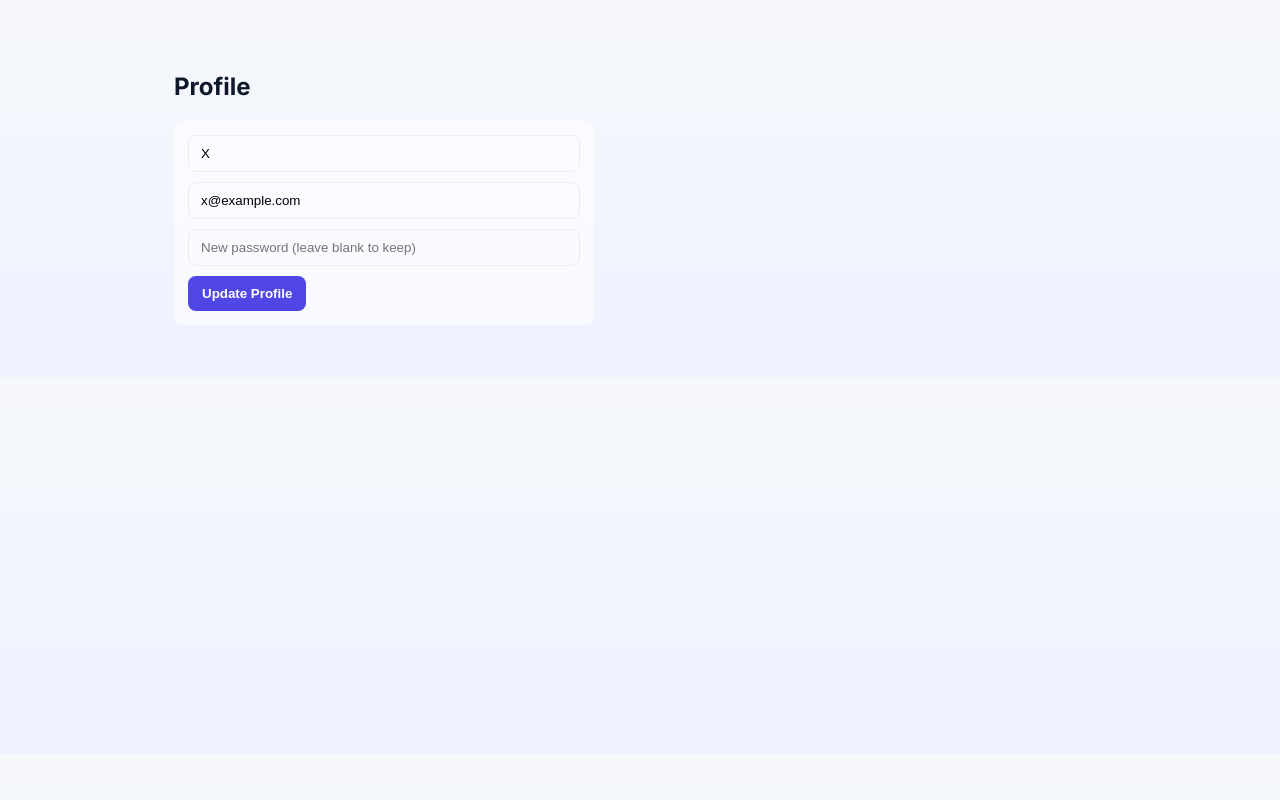
Test: renders profile and updates
Step 1. Replace the text in the 1st field with placeholder "Name" with "New" → point(384, 153), box [188,135,580,172]
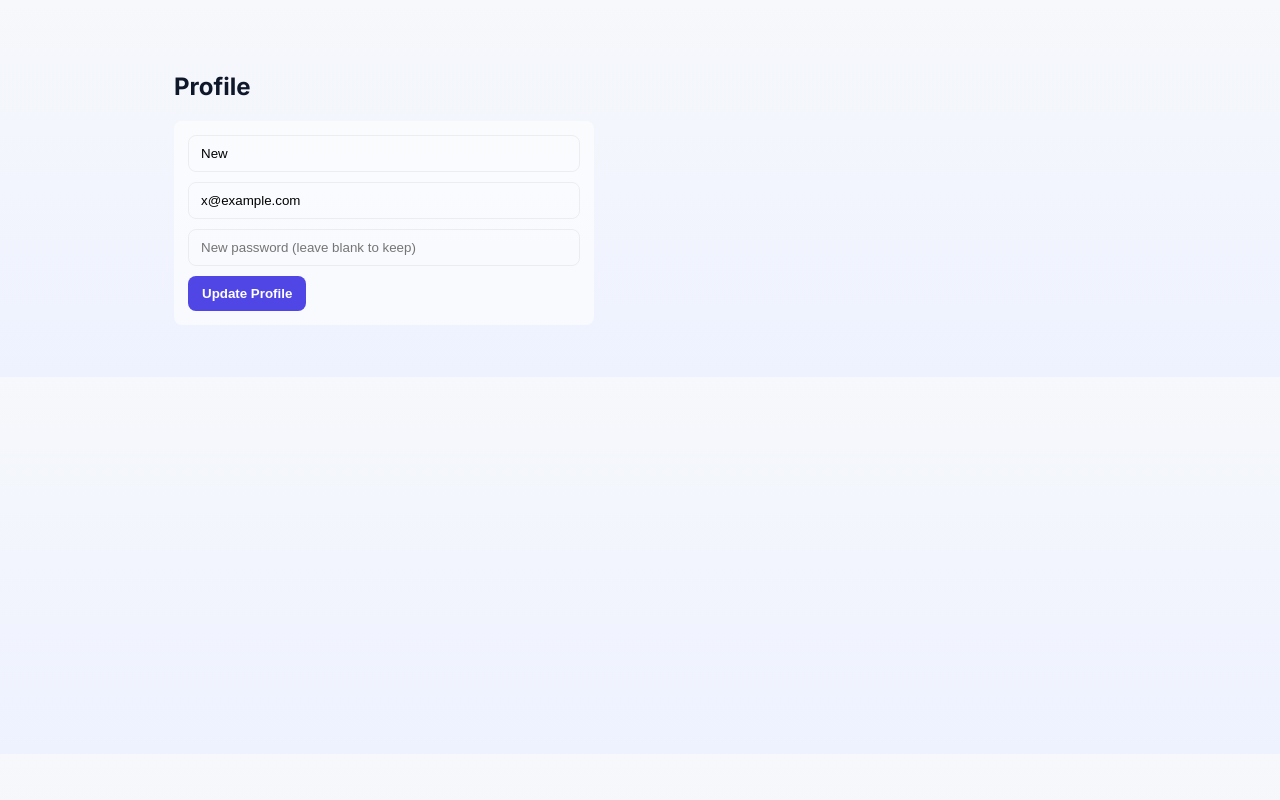
Step 2. Replace the text in the 2nd field with placeholder "Email" with "new@example.com" → point(384, 200), box [188,182,580,219]
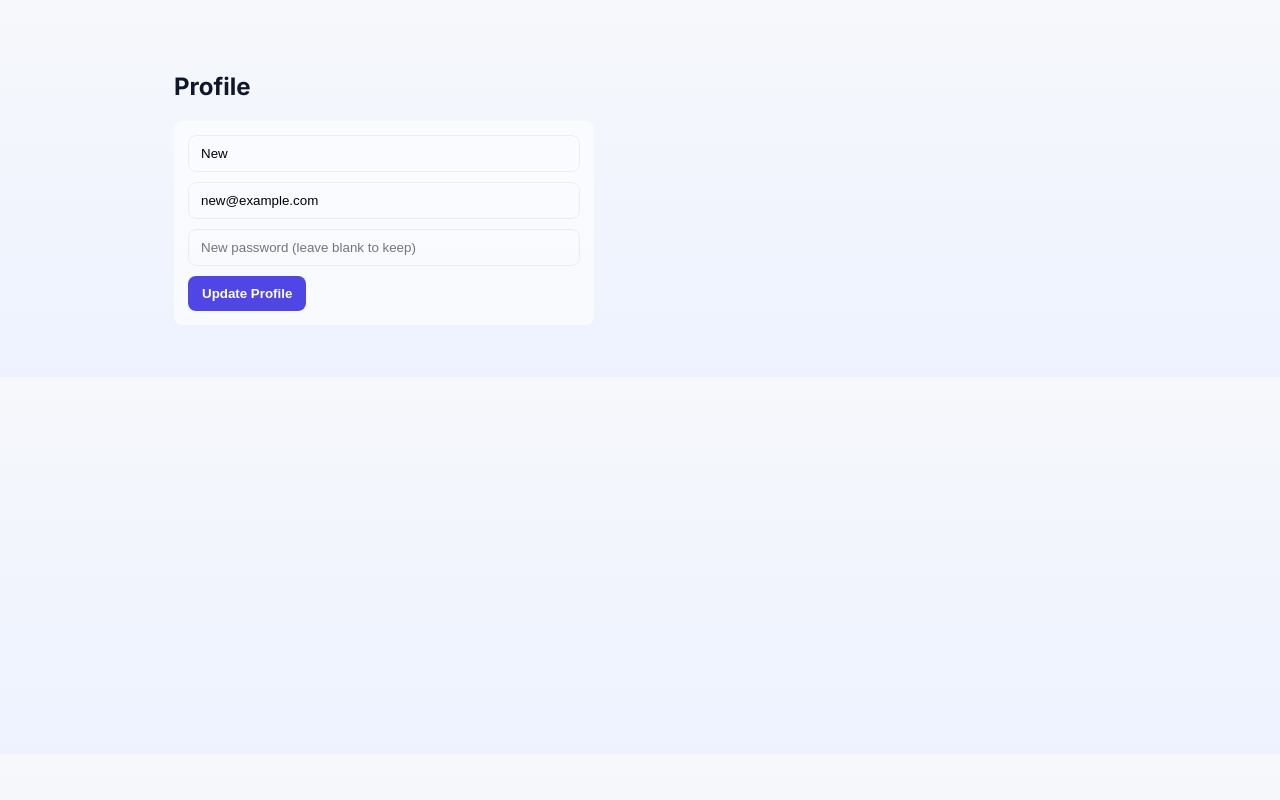
Step 3. Click the button "Update Profile" → point(247, 293), box [188,276,306,311]
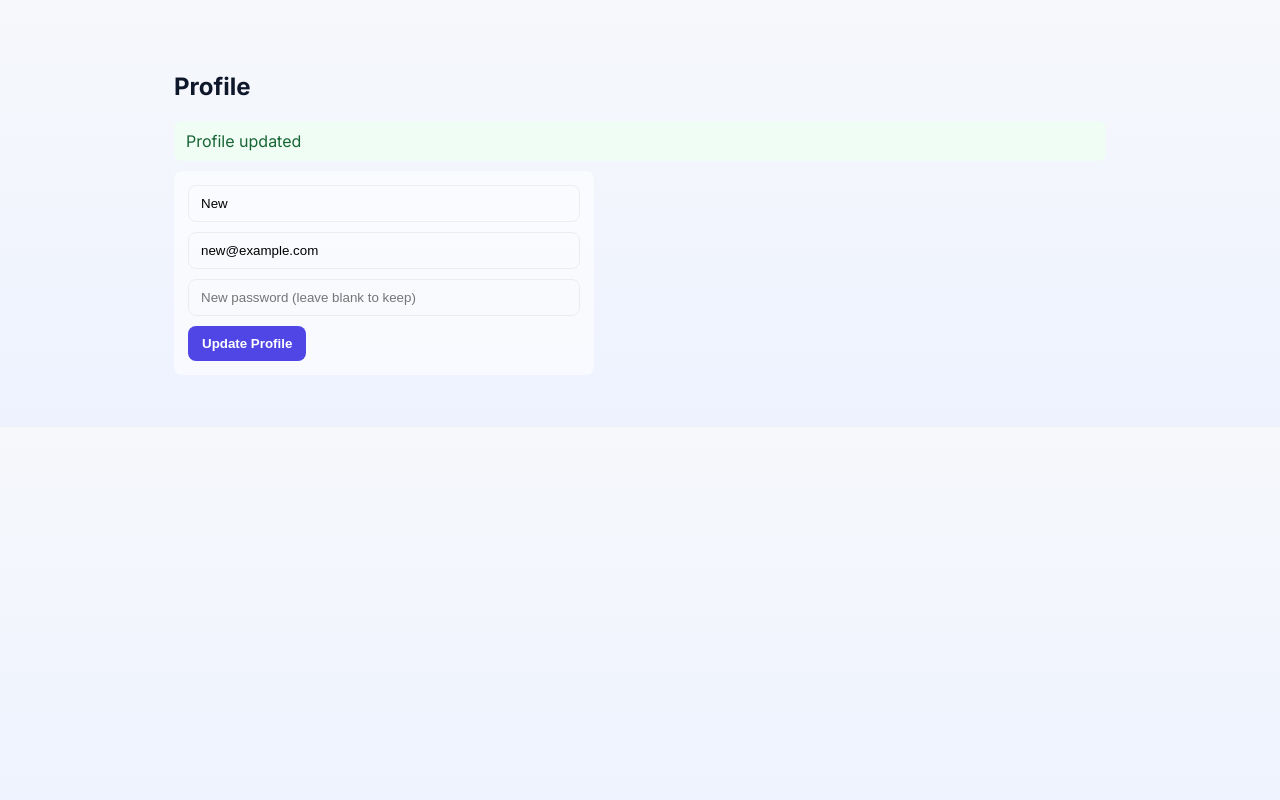
Expected: the text "Profile updated" is shown, [174,121,1106,161]
